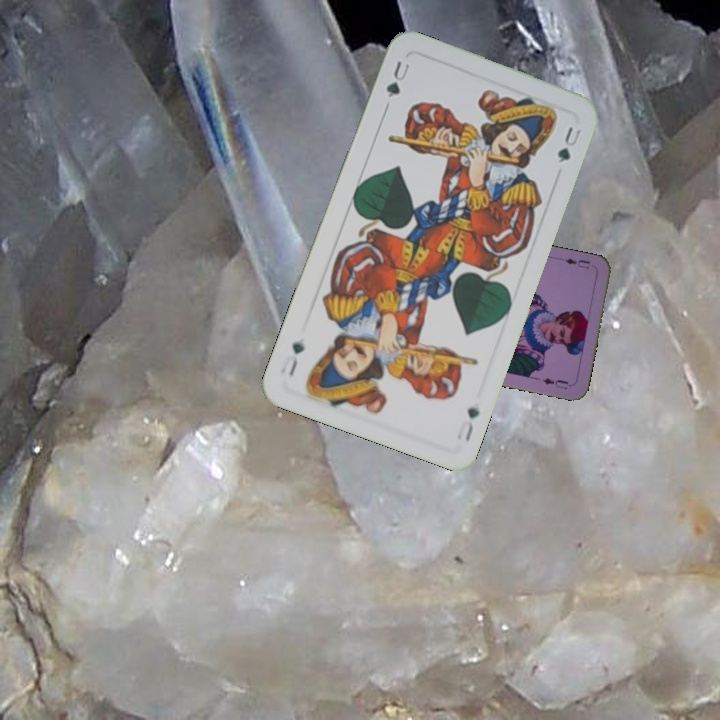EU: (561, 254, 592, 272)
GU: (381, 56, 413, 110), (460, 402, 482, 444)
